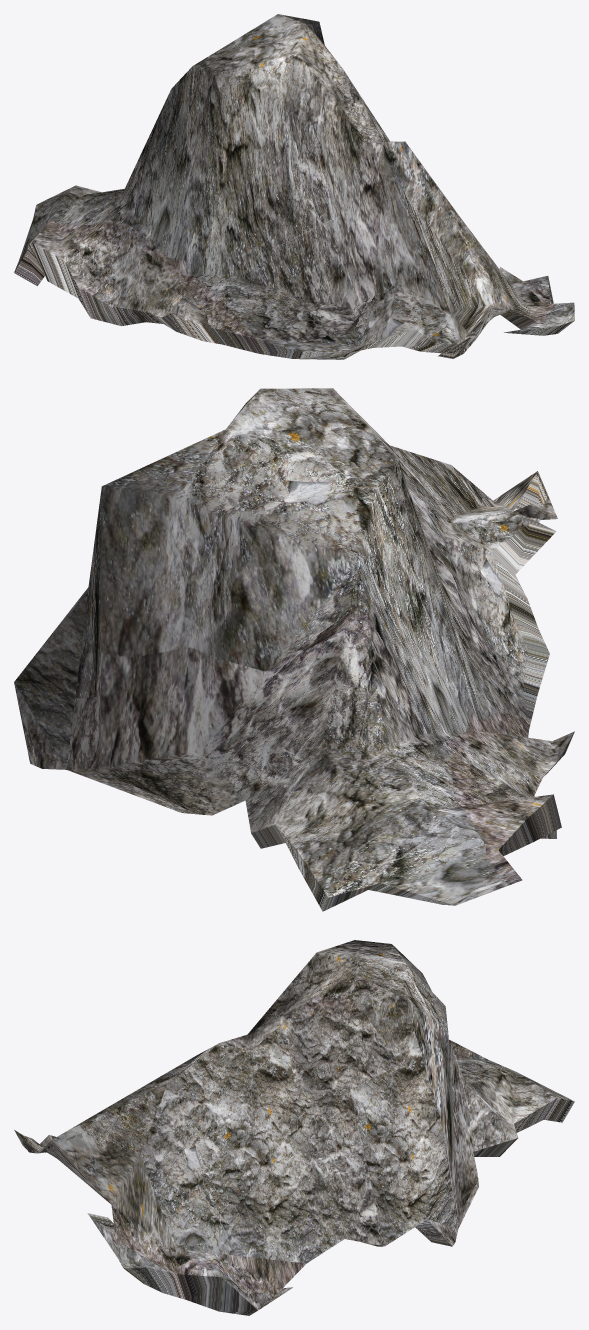
Rendered from rock 1.fbx.
3 renders of one model, top to bottom at view 1: azimuth 30°, elevation 25°; view 2: azimuth 150°, elevation 25°; view 3: azimuth 270°, elevation 25°, orthographic. The views are drawn at different scales.
Visible parts, largest first — view 1: shard2; view 2: shard2; view 3: shard2.
Part boxes in pixels (<box>): shard2: <box>14,14,574,359</box>; shard2: <box>14,388,574,911</box>; shard2: <box>14,940,574,1315</box>.
Bounding box in the file's own units: 10.27 × 6.62 × 12.27.
Materials: 1 (1 with a texture image).
